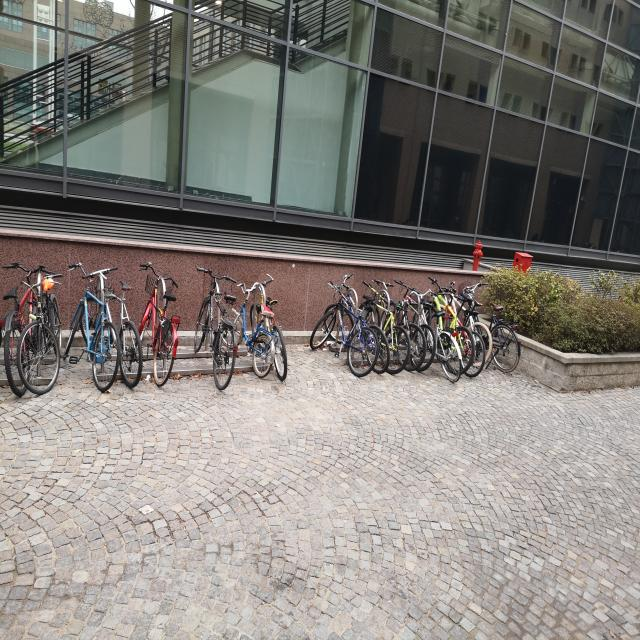Bicycle: (315, 263, 388, 407), (60, 265, 122, 397), (196, 265, 251, 396), (141, 260, 187, 406), (25, 264, 68, 394), (107, 246, 141, 402), (3, 263, 38, 397), (236, 276, 280, 373), (347, 288, 388, 378), (384, 278, 416, 376), (436, 279, 458, 404), (492, 288, 522, 378), (401, 282, 421, 392), (272, 264, 290, 382), (421, 276, 438, 382), (466, 302, 487, 378), (448, 295, 464, 385), (471, 285, 483, 355)
